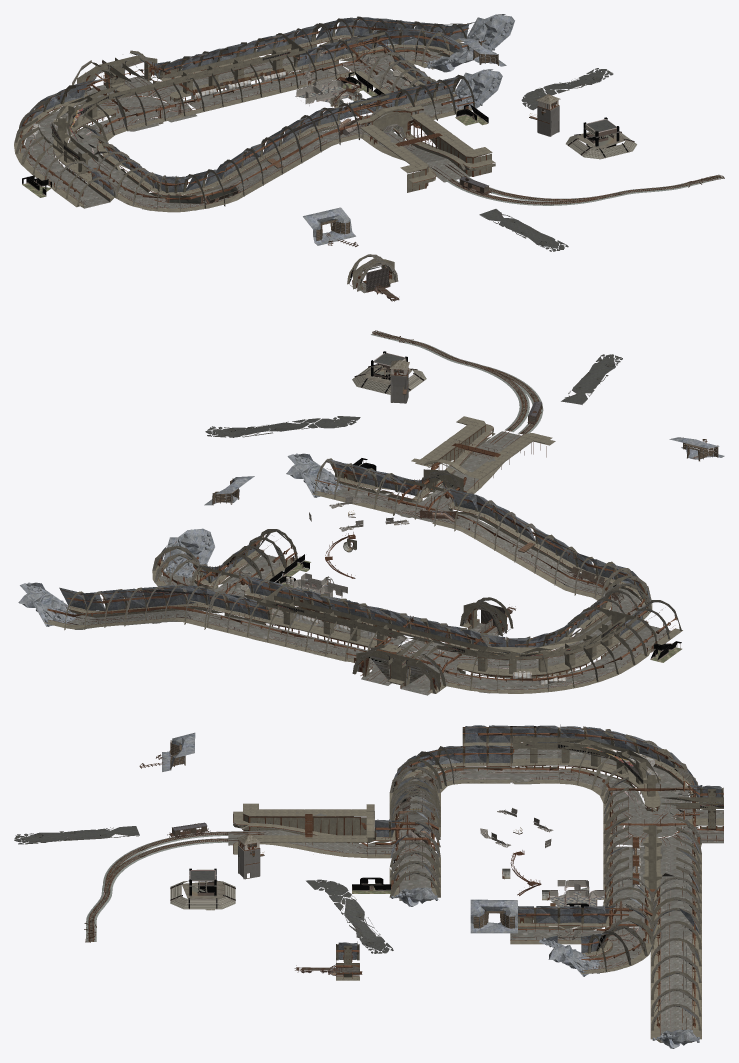
File: military_tunnel_1-map.glb
3 views of the same model, one above another, from view 1: azimuth 30°, elevation 25°; view 2: azimuth 150°, elevation 25°; view 3: azimuth 270°, elevation 25° (orthographic). The views are drawn at different scales.
Visible parts, largest first — view 1: sewer_tunnel_door_LOD0, mine_tnl_entrance_LOD0, tunnel.single.entrance_LOD0, corridor_train_tunnel_entrance_b_LOD0, mine_tnl_entrance_rail, train_wagon_b_LOD0, bunker.room.21.ad_LOD0, bunker.room.15.aa, watch_tower_d_LOD0, fuel_tank_b_600 (1), road_nopavement_9x15_end_LOD0; view 2: sewer_tunnel_door_LOD0, mine_tnl_entrance_LOD0, tunnel.single.entrance_LOD0, corridor_train_tunnel_entrance_b_LOD0, mine_tnl_entrance_rail, train_wagon_b_LOD0, watch_tower_d_LOD0, bunker.room.15.aa, bunker.room.21.ad_LOD0, fuel_tank_b_600 (1), road_nopavement_9x15_end_LOD0; view 3: sewer_tunnel_door_LOD0, tunnel.single.entrance_LOD0, mine_tnl_entrance_LOD0, corridor_train_tunnel_entrance_b_LOD0, mine_tnl_entrance_rail, bunker.room.21.ad_LOD0, train_wagon_b_LOD0, watch_tower_d_LOD0, road_nopavement_9x15_end_LOD0, wall_conc_300x300.
Boxes of the visible parts, box(x1,y1,x2,y2) form: sewer_tunnel_door_LOD0: box(14, 16, 559, 291); mine_tnl_entrance_LOD0: box(19, 14, 559, 289); tunnel.single.entrance_LOD0: box(21, 19, 557, 293); corridor_train_tunnel_entrance_b_LOD0: box(22, 20, 636, 277); mine_tnl_entrance_rail: box(29, 48, 724, 288); train_wagon_b_LOD0: box(165, 116, 491, 301); bunker.room.21.ad_LOD0: box(295, 76, 357, 105); bunker.room.15.aa: box(22, 73, 488, 197); watch_tower_d_LOD0: box(536, 94, 559, 136); fuel_tank_b_600 (1): box(27, 71, 359, 140); road_nopavement_9x15_end_LOD0: box(481, 69, 612, 251); sewer_tunnel_door_LOD0: box(44, 375, 682, 693); mine_tnl_entrance_LOD0: box(18, 362, 724, 691); tunnel.single.entrance_LOD0: box(66, 372, 670, 695); corridor_train_tunnel_entrance_b_LOD0: box(70, 351, 681, 665); mine_tnl_entrance_rail: box(67, 330, 713, 693); train_wagon_b_LOD0: box(418, 401, 624, 615); watch_tower_d_LOD0: box(389, 360, 409, 403); bunker.room.15.aa: box(273, 458, 681, 662); bunker.room.21.ad_LOD0: box(289, 573, 347, 599); fuel_tank_b_600 (1): box(286, 576, 566, 686); road_nopavement_9x15_end_LOD0: box(205, 356, 621, 437); sewer_tunnel_door_LOD0: box(233, 724, 723, 1042); tunnel.single.entrance_LOD0: box(228, 727, 723, 1042); mine_tnl_entrance_LOD0: box(162, 725, 723, 1048); corridor_train_tunnel_entrance_b_LOD0: box(14, 726, 723, 956); mine_tnl_entrance_rail: box(84, 751, 723, 1031); bunker.room.21.ad_LOD0: box(549, 880, 604, 907); train_wagon_b_LOD0: box(167, 776, 433, 973); watch_tower_d_LOD0: box(237, 834, 260, 879); road_nopavement_9x15_end_LOD0: box(14, 827, 392, 953); wall_conc_300x300: box(336, 808, 553, 972).
Size of the model in its own units: 259 by 87.3 by 270.
52 materials, 52 textured.
